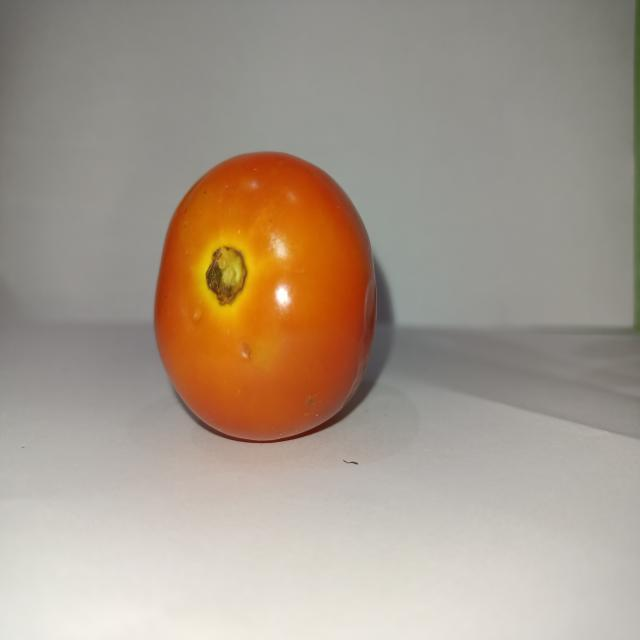Red: (152, 149, 378, 443)
